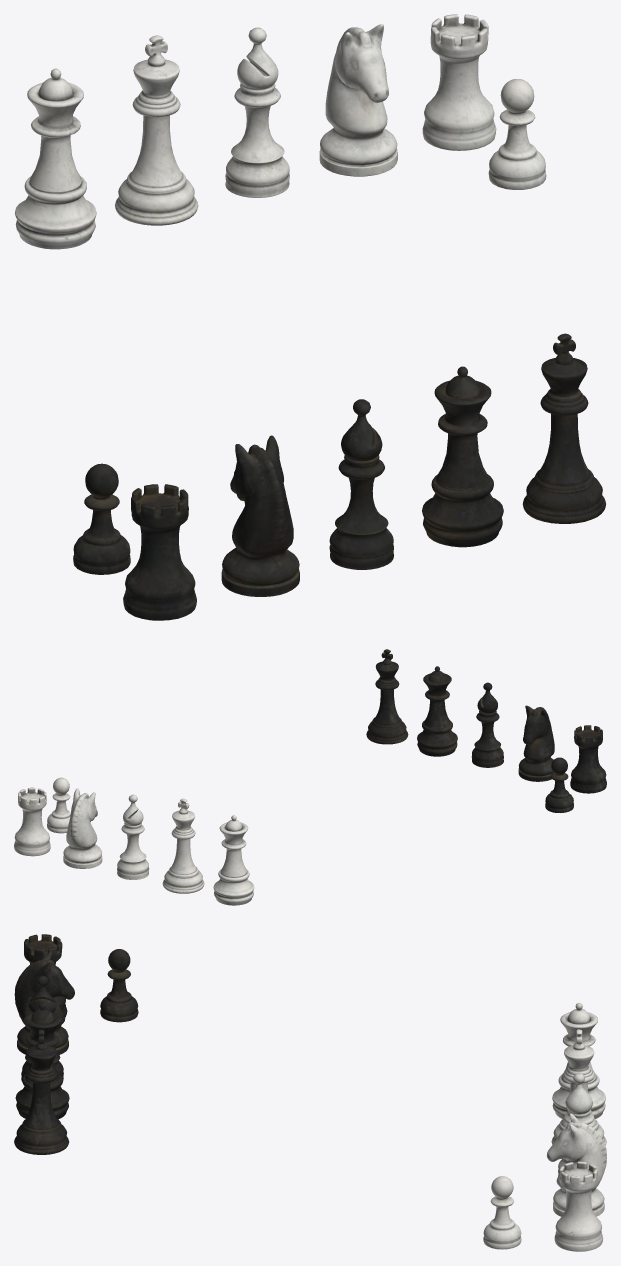
Rendered from pieces.glb.
3 views of the same model, one above another, from view 1: azimuth 30°, elevation 25°; view 2: azimuth 150°, elevation 25°; view 3: azimuth 270°, elevation 25° (orthographic). The views are drawn at different scales.
Parts seen in each view (by area): view 1: piece_queen_black, piece_queen_white, piece_knight_white_01, piece_knight_black_01, piece_king_black, piece_king_white, piece_rook_white_01, piece_rook_black_01, piece_bishop_black_01, piece_bishop_white_01, piece_pawn_white_01, piece_pawn_black_01; view 2: piece_queen_black, piece_queen_white, piece_knight_white_01, piece_knight_black_01, piece_king_white, piece_king_black, piece_rook_white_01, piece_rook_black_01, piece_bishop_white_01, piece_bishop_black_01, piece_pawn_black_01, piece_pawn_white_01; view 3: piece_king_black, piece_rook_white_01, piece_knight_white_01, piece_knight_black_01, piece_queen_black, piece_queen_white, piece_pawn_white_01, piece_pawn_black_01, piece_king_white, piece_rook_black_01, piece_bishop_white_01, piece_bishop_black_01.
Boxes of the visible parts, x1,y1,x2,y2 form: piece_queen_black: [422, 366, 503, 547]; piece_queen_white: [15, 68, 96, 249]; piece_knight_white_01: [319, 24, 397, 176]; piece_knight_black_01: [221, 435, 299, 596]; piece_king_black: [522, 333, 605, 523]; piece_king_white: [115, 35, 198, 225]; piece_rook_white_01: [422, 14, 496, 150]; piece_rook_black_01: [123, 484, 196, 620]; piece_bishop_black_01: [329, 399, 393, 569]; piece_bishop_white_01: [225, 27, 289, 197]; piece_pawn_white_01: [488, 79, 546, 189]; piece_pawn_black_01: [73, 463, 130, 574]; piece_queen_black: [417, 666, 457, 756]; piece_queen_white: [213, 815, 254, 905]; piece_knight_white_01: [63, 788, 102, 868]; piece_knight_black_01: [518, 705, 554, 781]; piece_king_white: [162, 798, 204, 893]; piece_king_black: [366, 649, 408, 744]; piece_rook_white_01: [14, 787, 50, 856]; piece_rook_black_01: [570, 725, 606, 793]; piece_bishop_white_01: [117, 794, 149, 879]; piece_bishop_black_01: [471, 682, 503, 767]; piece_pawn_black_01: [545, 757, 573, 812]; piece_pawn_white_01: [47, 777, 70, 833]; piece_king_black: [14, 1029, 69, 1154]; piece_rook_white_01: [554, 1161, 603, 1251]; piece_knight_white_01: [546, 1113, 606, 1216]; piece_knight_black_01: [14, 951, 74, 1054]; piece_queen_black: [15, 1003, 69, 1119]; piece_queen_white: [552, 1003, 605, 1118]; piece_pawn_white_01: [483, 1176, 521, 1249]; piece_pawn_black_01: [100, 949, 138, 1022]; piece_king_white: [551, 1029, 606, 1145]; piece_rook_black_01: [19, 934, 67, 1017]; piece_bishop_white_01: [558, 1073, 594, 1175]; piece_bishop_black_01: [21, 975, 63, 1080].
Bounding box in the file's own units: 0.4421 × 0.0953 × 0.4471.
Materials: 2 (2 with a texture image).
